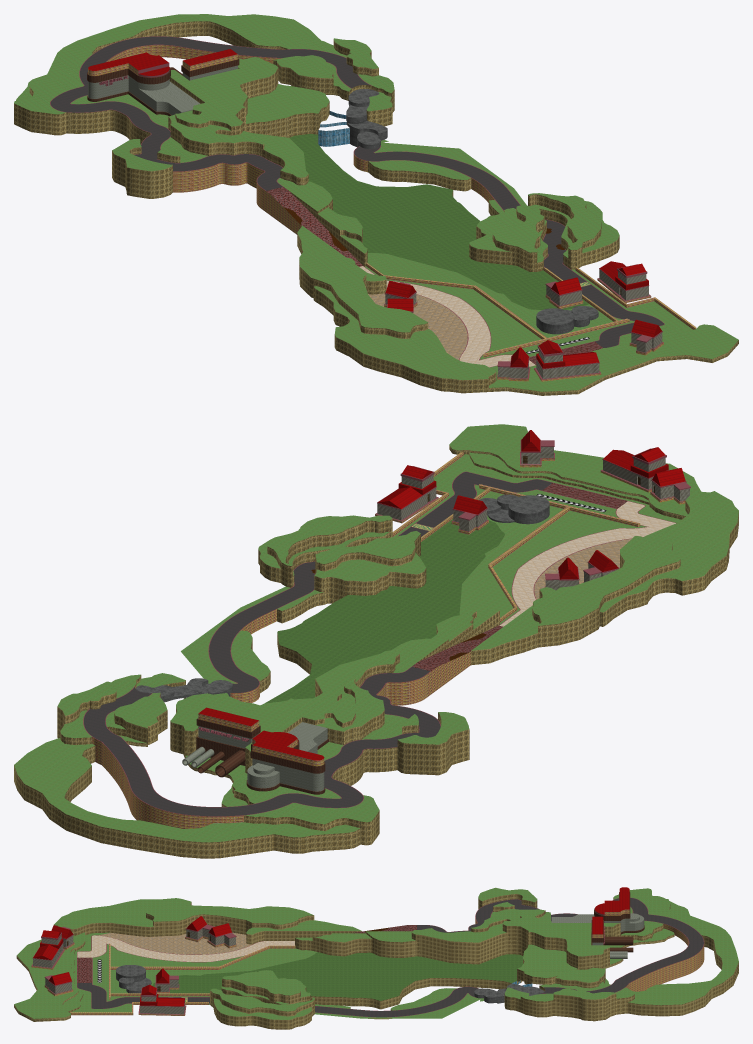
3 views of the same model, one above another, from view 1: azimuth 30°, elevation 25°; view 2: azimuth 150°, elevation 25°; view 3: azimuth 270°, elevation 25° (orthographic). The views are drawn at different scales.
Parts seen in each view (by area): view 1: Weegee_Race_2k17_Main-herbe_offraod2.001, Weegee_Race_2k17_Main-mur_paroi.001, Weegee_Race_2k17_Main-herbe_offroad1.001, Weegee_Race_2k17_Main-road.001, Weegee_Race_2k17_Main-muret.001, Weegee_Race_2k17_Main-houseRoof.001, Weegee_Race_2k17_Main-toit_betonroad.001, Weegee_Race_2k17_Main-road3.001, Weegee_Race_2k17_Main-houseBrick.001, Weegee_Race_2k17_Main-mmur_beton2.001, Weegee_Race_2k17_Main-road2.001, Weegee_Race_2k17_Main-place.001 (+3 smaller); view 2: Weegee_Race_2k17_Main-herbe_offraod2.001, Weegee_Race_2k17_Main-mur_paroi.001, Weegee_Race_2k17_Main-herbe_offroad1.001, Weegee_Race_2k17_Main-road.001, Weegee_Race_2k17_Main-muret.001, Weegee_Race_2k17_Main-houseRoof.001, Weegee_Race_2k17_Main-toit_betonroad.001, Weegee_Race_2k17_Main-mmur_beton2.001, Weegee_Race_2k17_Main-road2.001, Weegee_Race_2k17_Main-houseBrick.001, Weegee_Race_2k17_Main-road3.001, Weegee_Race_2k17_Main-mur_beton.001 (+2 smaller); view 3: Weegee_Race_2k17_Main-herbe_offraod2.001, Weegee_Race_2k17_Main-mur_paroi.001, Weegee_Race_2k17_Main-herbe_offroad1.001, Weegee_Race_2k17_Main-road.001, Weegee_Race_2k17_Main-muret.001, Weegee_Race_2k17_Main-houseRoof.001, Weegee_Race_2k17_Main-toit_betonroad.001, Weegee_Race_2k17_Main-road2.001, Weegee_Race_2k17_Main-place.001, Weegee_Race_2k17_Main-houseBrick.001, Weegee_Race_2k17_Main-road3.001, Weegee_Race_2k17_Main-mmur_beton2.001 (+2 smaller).
Boxes of the visible parts, x1,y1,x2,y2 form: Weegee_Race_2k17_Main-herbe_offraod2.001: (14,14,738,391); Weegee_Race_2k17_Main-mur_paroi.001: (14,21,738,395); Weegee_Race_2k17_Main-herbe_offroad1.001: (289,133,588,309); Weegee_Race_2k17_Main-road.001: (50,36,663,347); Weegee_Race_2k17_Main-muret.001: (88,45,696,381); Weegee_Race_2k17_Main-houseRoof.001: (88,49,661,368); Weegee_Race_2k17_Main-toit_betonroad.001: (50,36,664,379); Weegee_Race_2k17_Main-road3.001: (346,89,598,334); Weegee_Race_2k17_Main-houseBrick.001: (385,269,662,378); Weegee_Race_2k17_Main-mmur_beton2.001: (88,65,237,115); Weegee_Race_2k17_Main-road2.001: (359,266,535,367); Weegee_Race_2k17_Main-place.001: (368,293,467,359); Weegee_Race_2k17_Main-herbe_offraod2.001: (14,424,738,842); Weegee_Race_2k17_Main-mur_paroi.001: (14,445,738,858); Weegee_Race_2k17_Main-herbe_offroad1.001: (264,519,504,703); Weegee_Race_2k17_Main-road.001: (84,472,552,816); Weegee_Race_2k17_Main-muret.001: (92,452,685,828); Weegee_Race_2k17_Main-houseRoof.001: (198,430,685,760); Weegee_Race_2k17_Main-toit_betonroad.001: (83,439,690,816); Weegee_Race_2k17_Main-mmur_beton2.001: (182,722,327,791); Weegee_Race_2k17_Main-road2.001: (499,501,675,626); Weegee_Race_2k17_Main-houseBrick.001: (377,447,689,590); Weegee_Race_2k17_Main-road3.001: (136,494,549,702); Weegee_Race_2k17_Main-mur_beton.001: (196,718,328,794); Weegee_Race_2k17_Main-herbe_offraod2.001: (14,887,738,1019); Weegee_Race_2k17_Main-mur_paroi.001: (14,894,738,1029); Weegee_Race_2k17_Main-herbe_offroad1.001: (152,952,523,1000); Weegee_Race_2k17_Main-road.001: (77,898,703,1017); Weegee_Race_2k17_Main-muret.001: (31,909,704,1019); Weegee_Race_2k17_Main-houseRoof.001: (33,887,629,1006); Weegee_Race_2k17_Main-toit_betonroad.001: (31,897,704,1017); Weegee_Race_2k17_Main-road2.001: (77,935,294,961); Weegee_Race_2k17_Main-place.001: (99,932,251,954); Weegee_Race_2k17_Main-houseBrick.001: (33,928,235,1014); Weegee_Race_2k17_Main-road3.001: (116,965,544,1003); Weegee_Race_2k17_Main-mmur_beton2.001: (551,913,644,958).
Size of what is drawn, in the model's own units: 71168 by 12547 by 173656.
20 materials, 20 textured.
